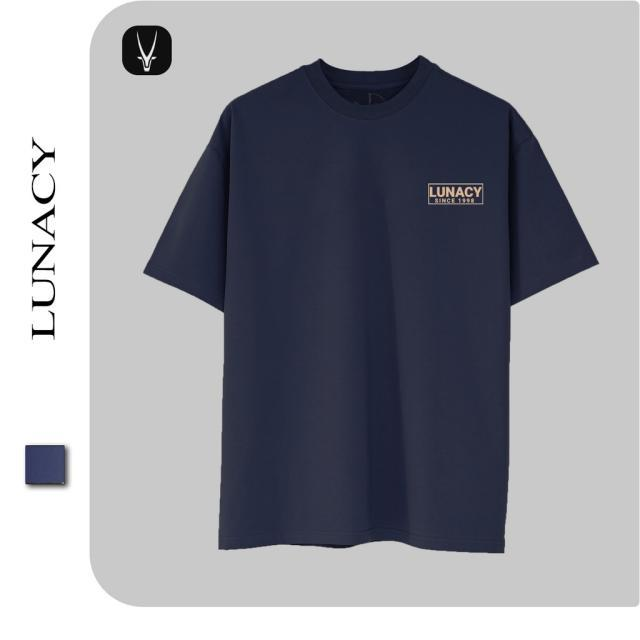Shirt: (142, 62, 600, 554)
